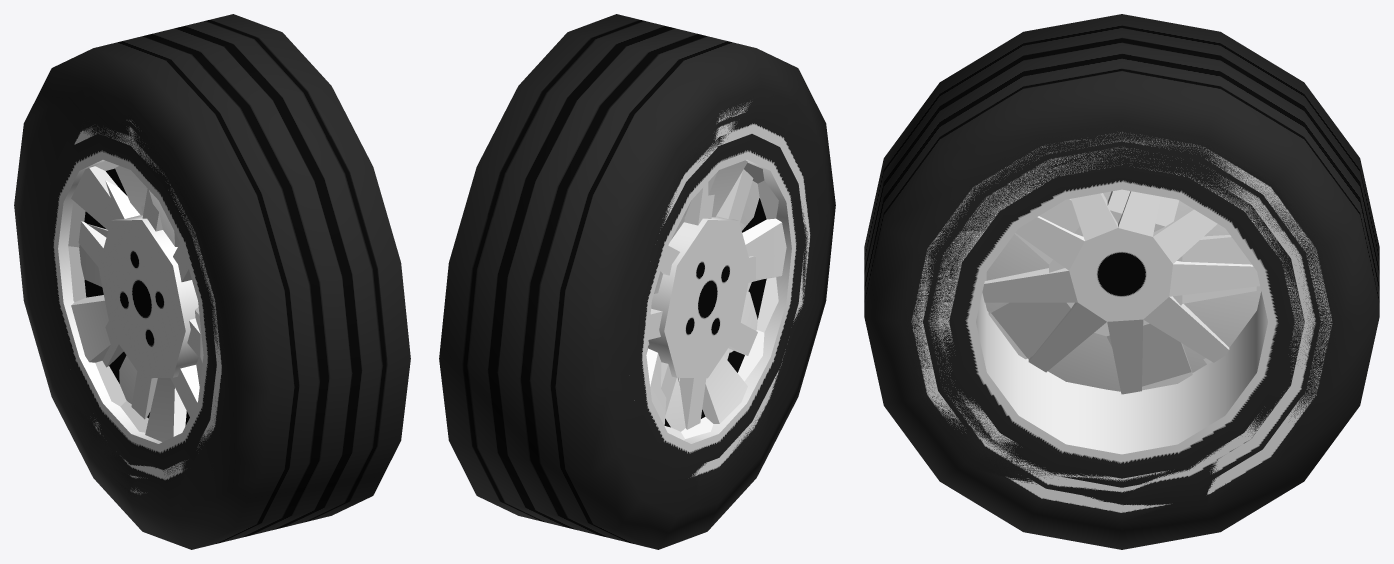
File: Wheels.FBX
3 renders of one model, left to right at view 1: azimuth 30°, elevation 25°; view 2: azimuth 150°, elevation 25°; view 3: azimuth 270°, elevation 25°, orthographic.
Visible parts, largest first — view 1: Wheel1, Wheel2, Wheel3, Wheel4; view 2: Wheel1, Wheel2, Wheel3, Wheel4; view 3: Wheel1, Wheel2, Wheel3, Wheel4.
Part boxes in pixels (left/top/right/bottom): Wheel1: left=14, top=14, right=410, bottom=549; Wheel2: left=20, top=87, right=240, bottom=511; Wheel3: left=14, top=15, right=410, bottom=548; Wheel4: left=22, top=97, right=240, bottom=502; Wheel1: left=439, top=14, right=835, bottom=549; Wheel2: left=609, top=87, right=823, bottom=516; Wheel3: left=439, top=14, right=835, bottom=548; Wheel4: left=614, top=87, right=828, bottom=506; Wheel1: left=864, top=14, right=1379, bottom=549; Wheel2: left=901, top=121, right=1341, bottom=510; Wheel3: left=864, top=17, right=1377, bottom=546; Wheel4: left=900, top=122, right=1342, bottom=522.
Bounding box in the file's own units: 369 × 1004 × 1004.
Materials: 1 (1 with a texture image).
